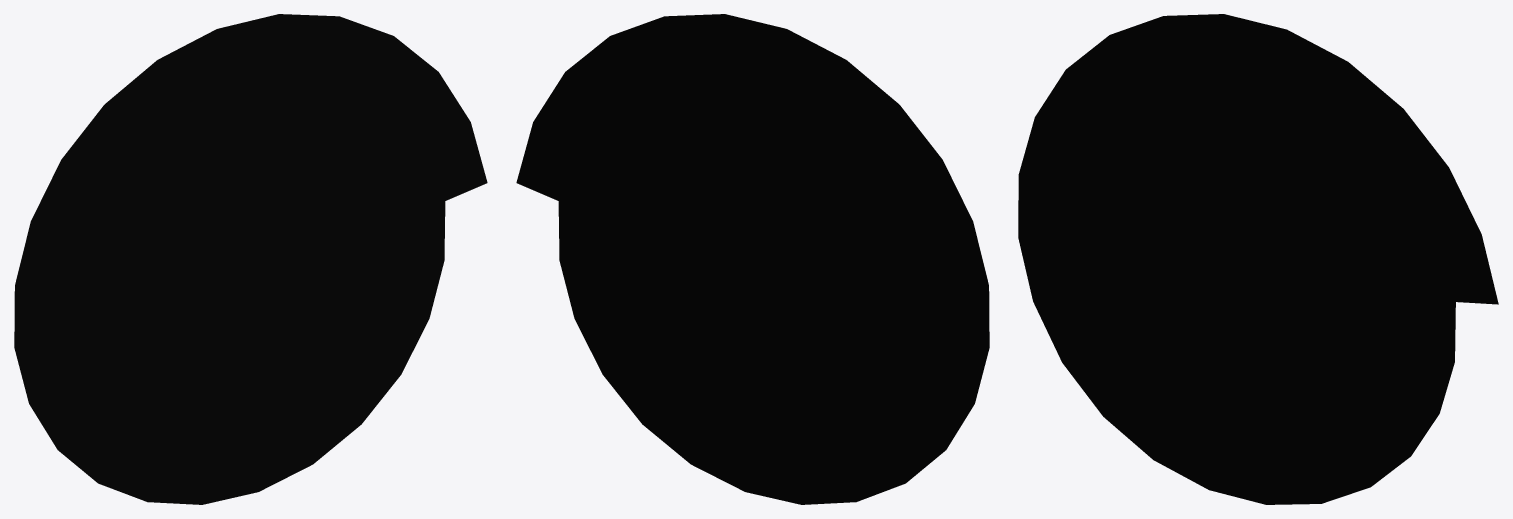
The model's file is Screen Spiral.FBX.
3 views of the same model, side by side, from view 1: azimuth 30°, elevation 25°; view 2: azimuth 150°, elevation 25°; view 3: azimuth 330°, elevation 25° (orthographic).
Parts seen in each view (by area): view 1: Screen Spiral; view 2: Screen Spiral; view 3: Screen Spiral.
Part boxes in pixels (x1=…): Screen Spiral: x1=14, y1=14, x2=487, y2=504; Screen Spiral: x1=516, y1=14, x2=989, y2=504; Screen Spiral: x1=1018, y1=14, x2=1498, y2=504.
Size of the model in its own units: 193 by 184 by 4.6e-05.
